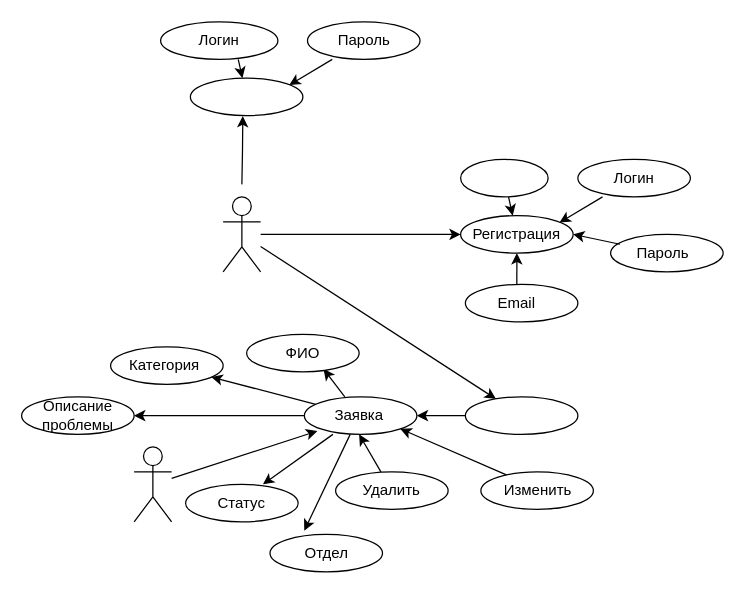
The diagram is 746 pixels wide and 594 high, and some of its shapes have lost their labels. Each missing label, with the centre of its shape:
admin: the point at 152,484
user: the point at 241,234
Авторизация: the point at 246,96
Имя: the point at 503,177
Подать: the point at 521,415
